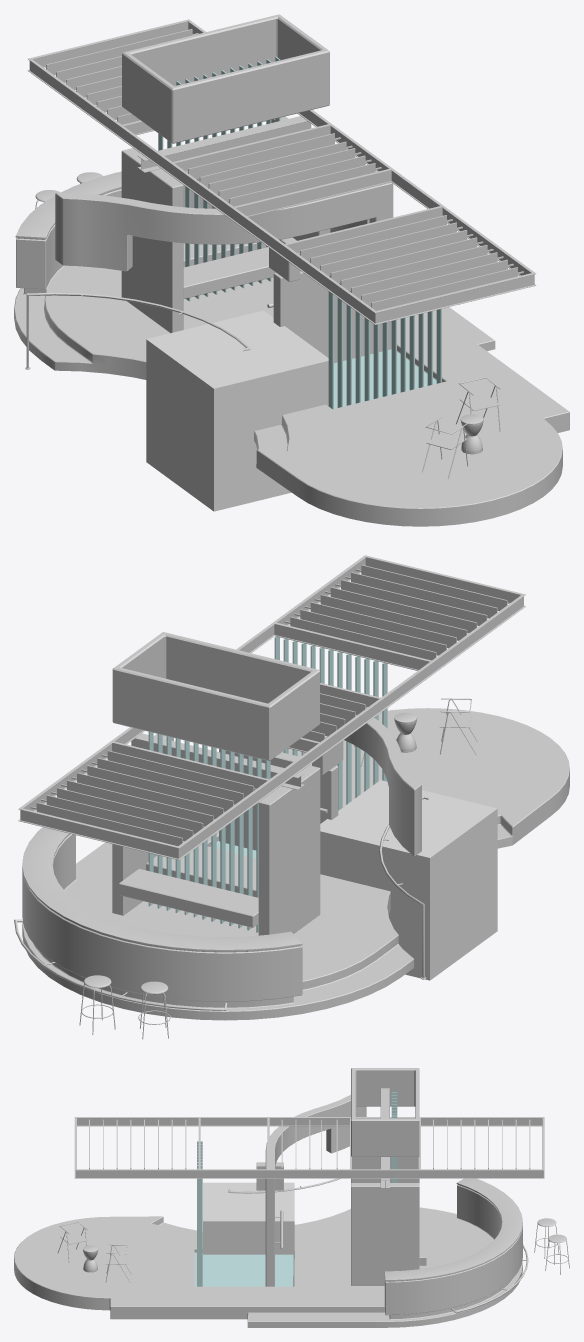
File: booth-2mat1.glb
The picture shows the model from 3 angles, top to bottom: view 1: azimuth 30°, elevation 25°; view 2: azimuth 150°, elevation 25°; view 3: azimuth 270°, elevation 25°; orthographic projection. The views are drawn at different scales.
Parts seen in each view (by area): view 1: Line011, Cube; view 2: Line011, Cube; view 3: Line011, Cube.
Boxes of the visible parts, <box> form: Line011: <box>14,14,569,526</box>; Cube: <box>146,310,328,511</box>; Line011: <box>14,555,569,1039</box>; Cube: <box>320,780,497,980</box>; Line011: <box>14,1068,569,1327</box>; Cube: <box>203,1182,294,1254</box>.
Size of the model in its own units: 6.35 by 5.3 by 12.12.
